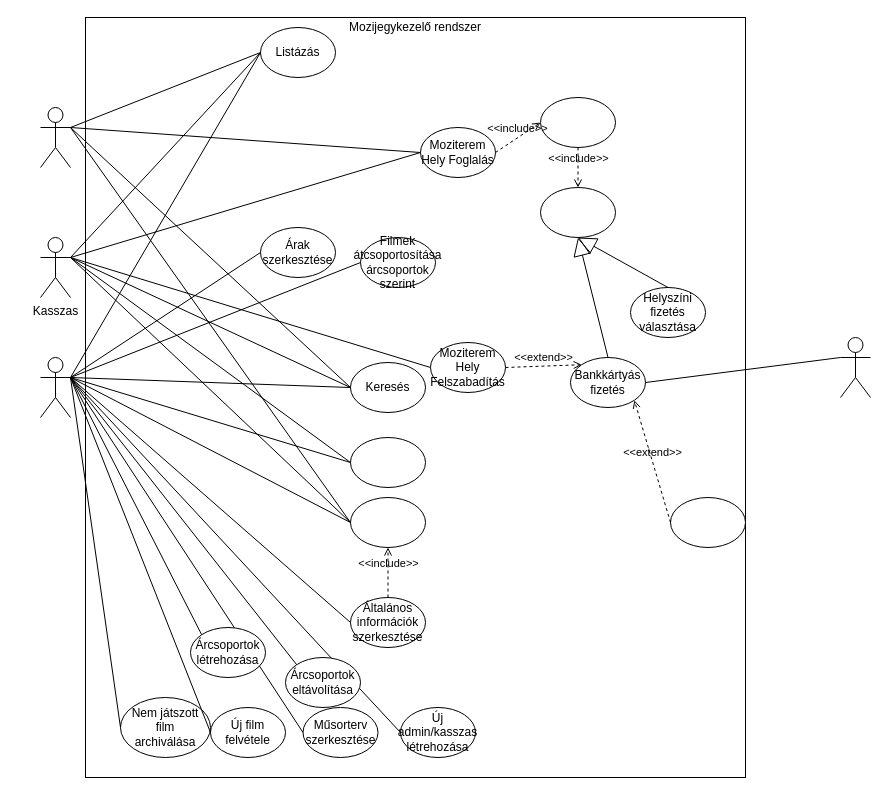
Some shapes in this 888 by 795 pixel diagram are drawn without their labels. The shapes that lost their labels are listed below. From the top down, each one's centre as x and y in pixels, then its label:
point 55,137: Online vásárló
point 578,122: Vásárlás
point 578,212: Fizetés
point 55,387: Admin
point 855,367: Bank
point 388,462: Bejelentkezés
point 388,522: Általános információk megjelenítése
point 708,522: Naplózás
